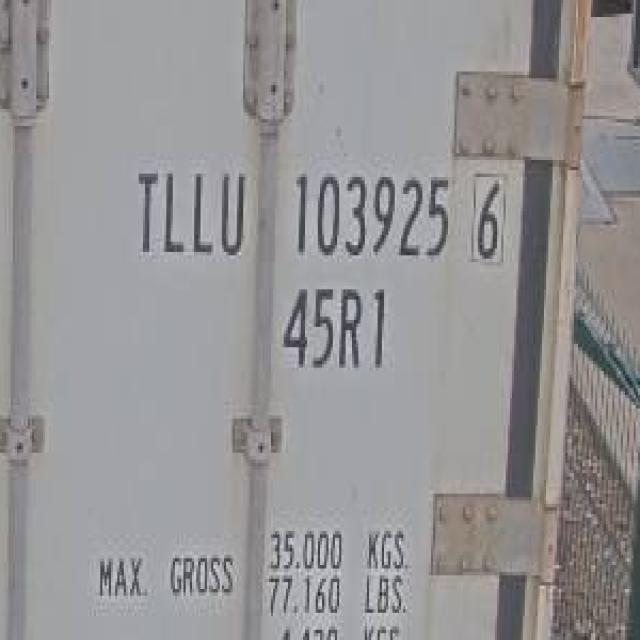dv: (467, 164, 507, 267)
owner: (127, 158, 247, 264)
serial: (277, 161, 457, 267)
size: (276, 277, 390, 375)
